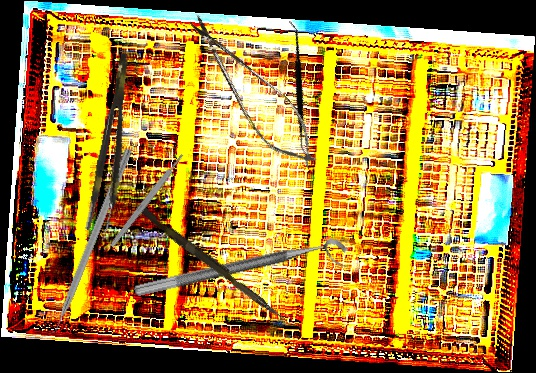Chopper: (35, 142, 134, 347)
Fixation Ring: (133, 234, 353, 316)
Micro Scissor: (173, 4, 332, 180)
Pusher: (135, 205, 289, 321)
Scalpel Handle: (108, 152, 186, 249)
Spatula Surgical: (235, 20, 361, 158)
Tissue Forceps: (84, 53, 144, 234)
